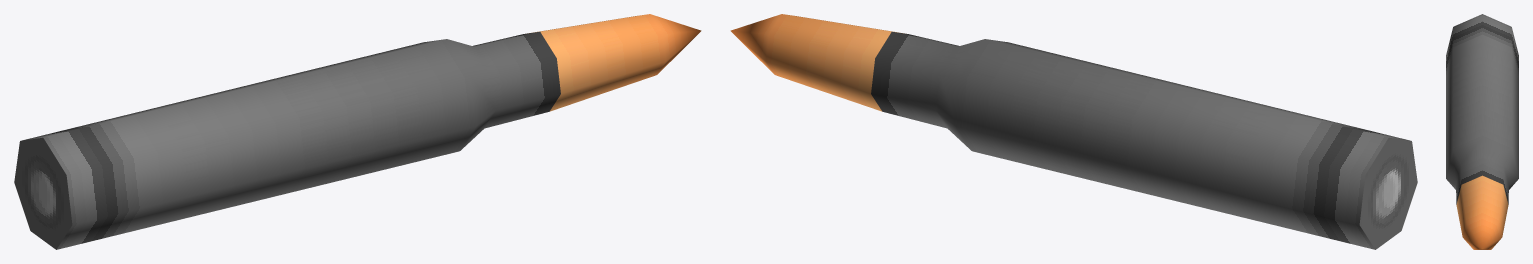
File: 762x54Round.fbx
The picture shows the model from 3 angles, left to right: view 1: azimuth 30°, elevation 25°; view 2: azimuth 150°, elevation 25°; view 3: azimuth 270°, elevation 25°; orthographic projection. The views are drawn at different scales.
Parts seen in each view (by area): view 1: 762x54ammo; view 2: 762x54ammo; view 3: 762x54ammo.
Boxes of the visible parts, bbox=[...] form: 762x54ammo: bbox=[14, 14, 701, 249]; 762x54ammo: bbox=[730, 14, 1417, 249]; 762x54ammo: bbox=[1446, 14, 1518, 249].
Bounding box in the file's own units: 0.1428 × 0.0213 × 0.0219.
